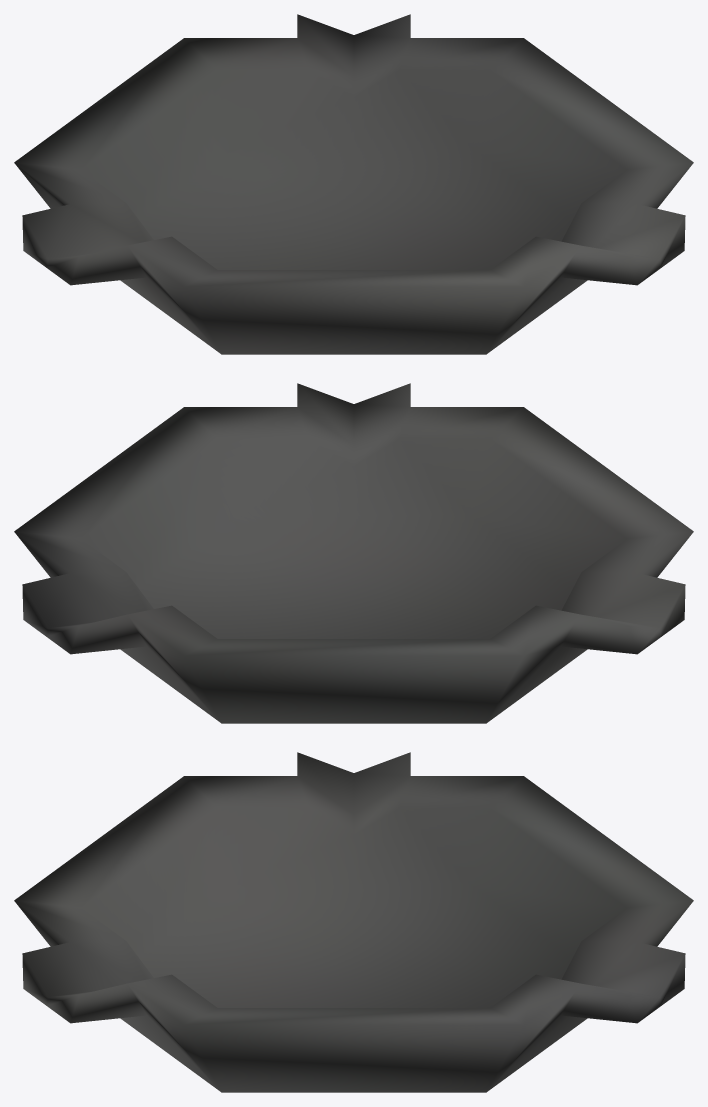
The model's file is Ashtray.fbx.
The picture shows the model from 3 angles, top to bottom: view 1: azimuth 30°, elevation 25°; view 2: azimuth 150°, elevation 25°; view 3: azimuth 270°, elevation 25°; orthographic projection.
Parts seen in each view (by area): view 1: Ashtray; view 2: Ashtray; view 3: Ashtray.
Part boxes in pixels (box(x1,y1,x2,y2)): Ashtray: box(14, 14, 693, 354); Ashtray: box(14, 383, 693, 723); Ashtray: box(14, 752, 693, 1092).
Size of the model in its own units: 32.99 by 5.38 by 34.57.
